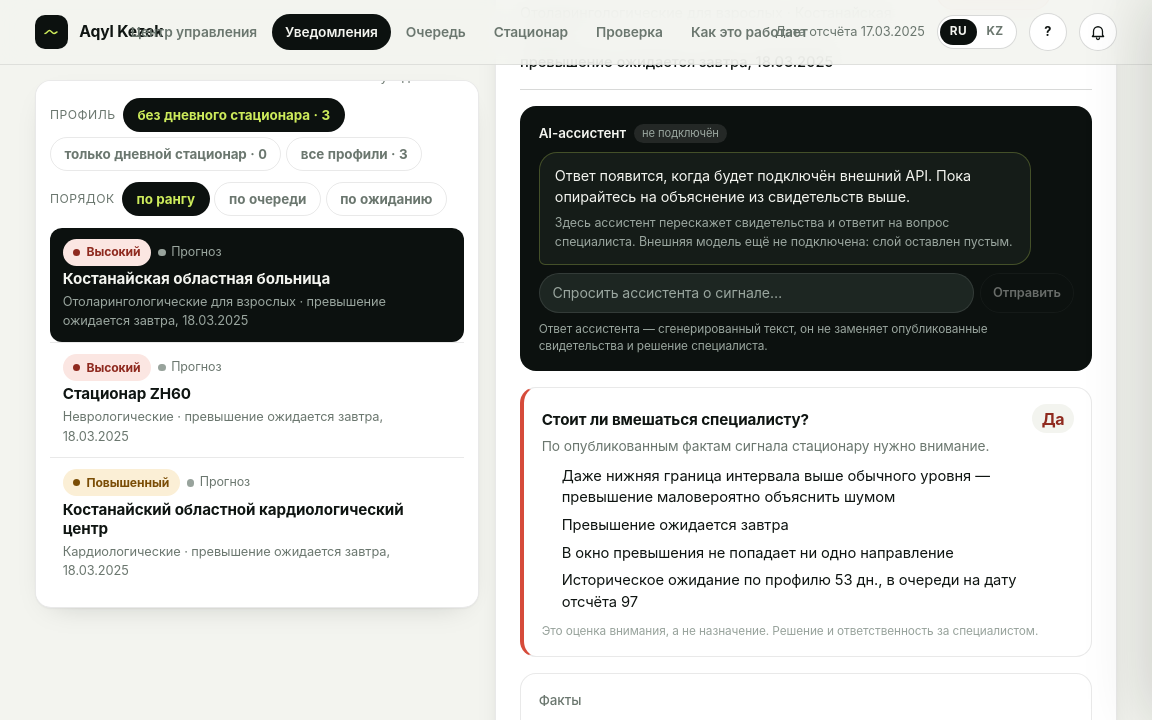
Test: Control centre with the synthetic layer off › /notifications lists the published notifications and records a decision
The width and height of the screenshot is (1152, 720).
(page scrolled)
Click the button that starts with "Повышенный". click: click(121, 483)
box: x1=50 y1=457 x2=464 y2=592
(page scrolled)
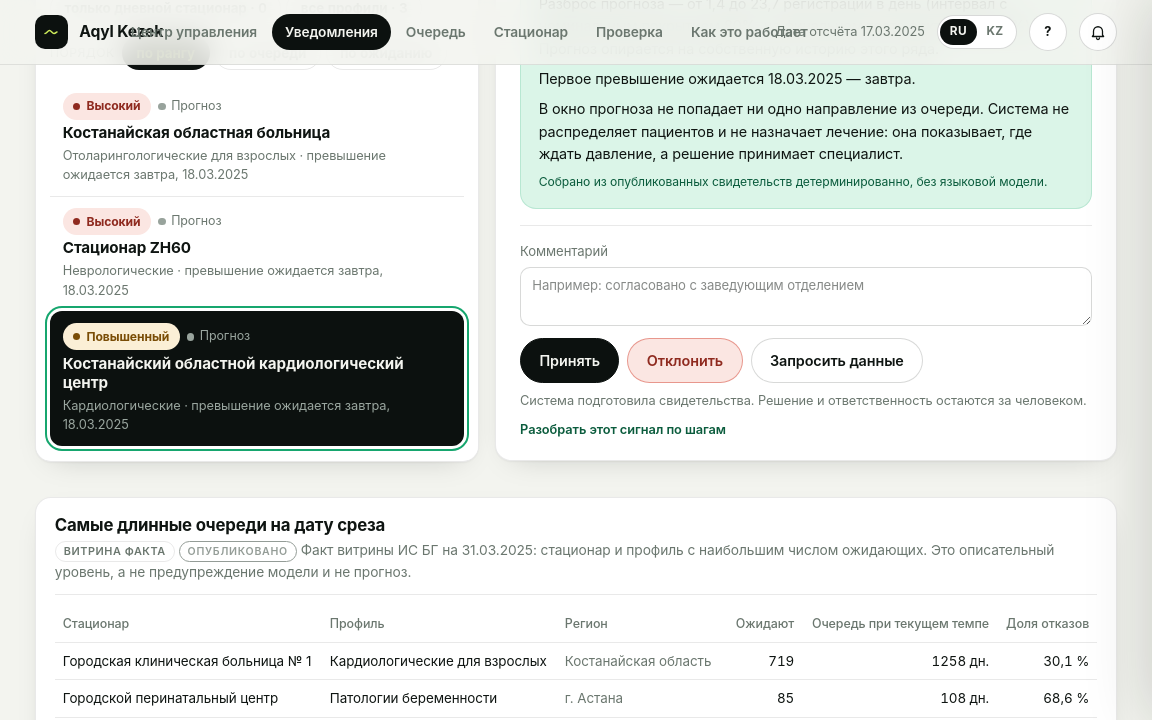
Click the button "Принять". click: click(570, 361)
box: x1=520 y1=338 x2=619 y2=383
(page scrolled)
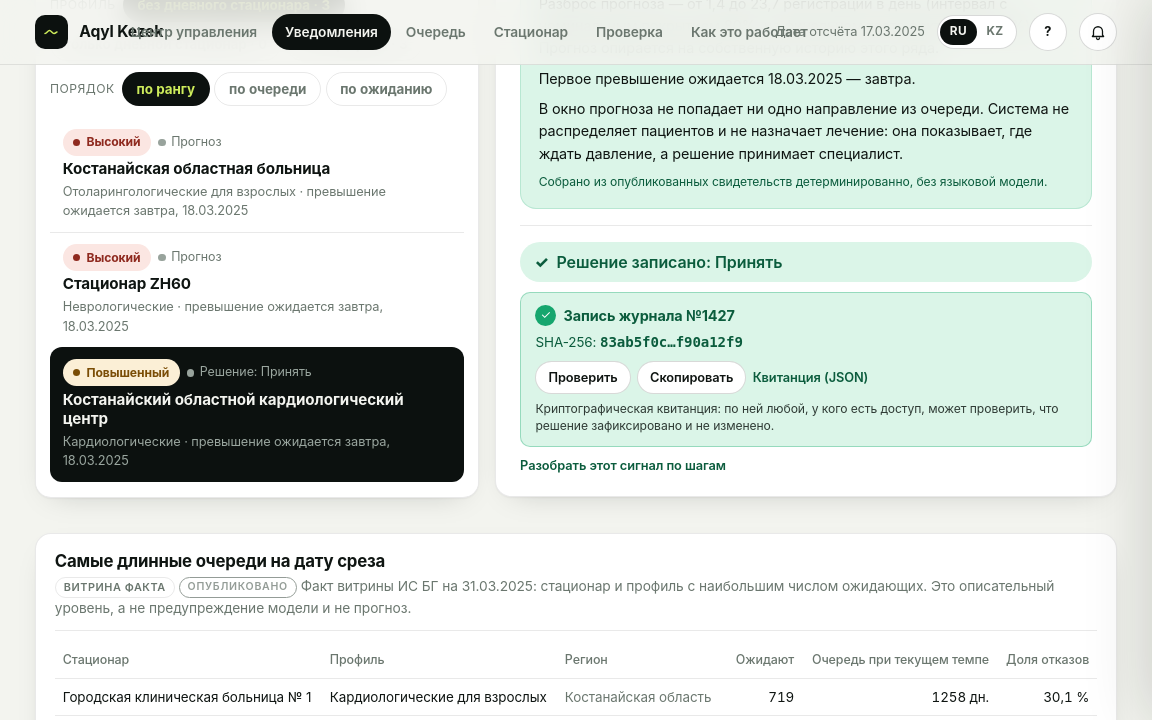
Result: the text "Решение записано: Принять" is shown at x1=520 y1=242 x2=1092 y2=282
